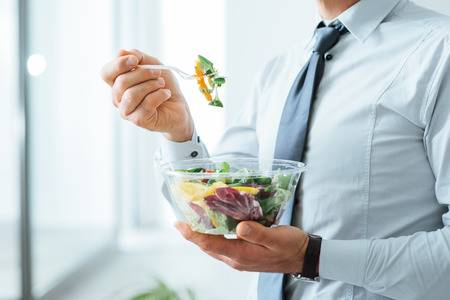F_shirt: (156, 1, 449, 300)
F_tie: (271, 29, 343, 168)
